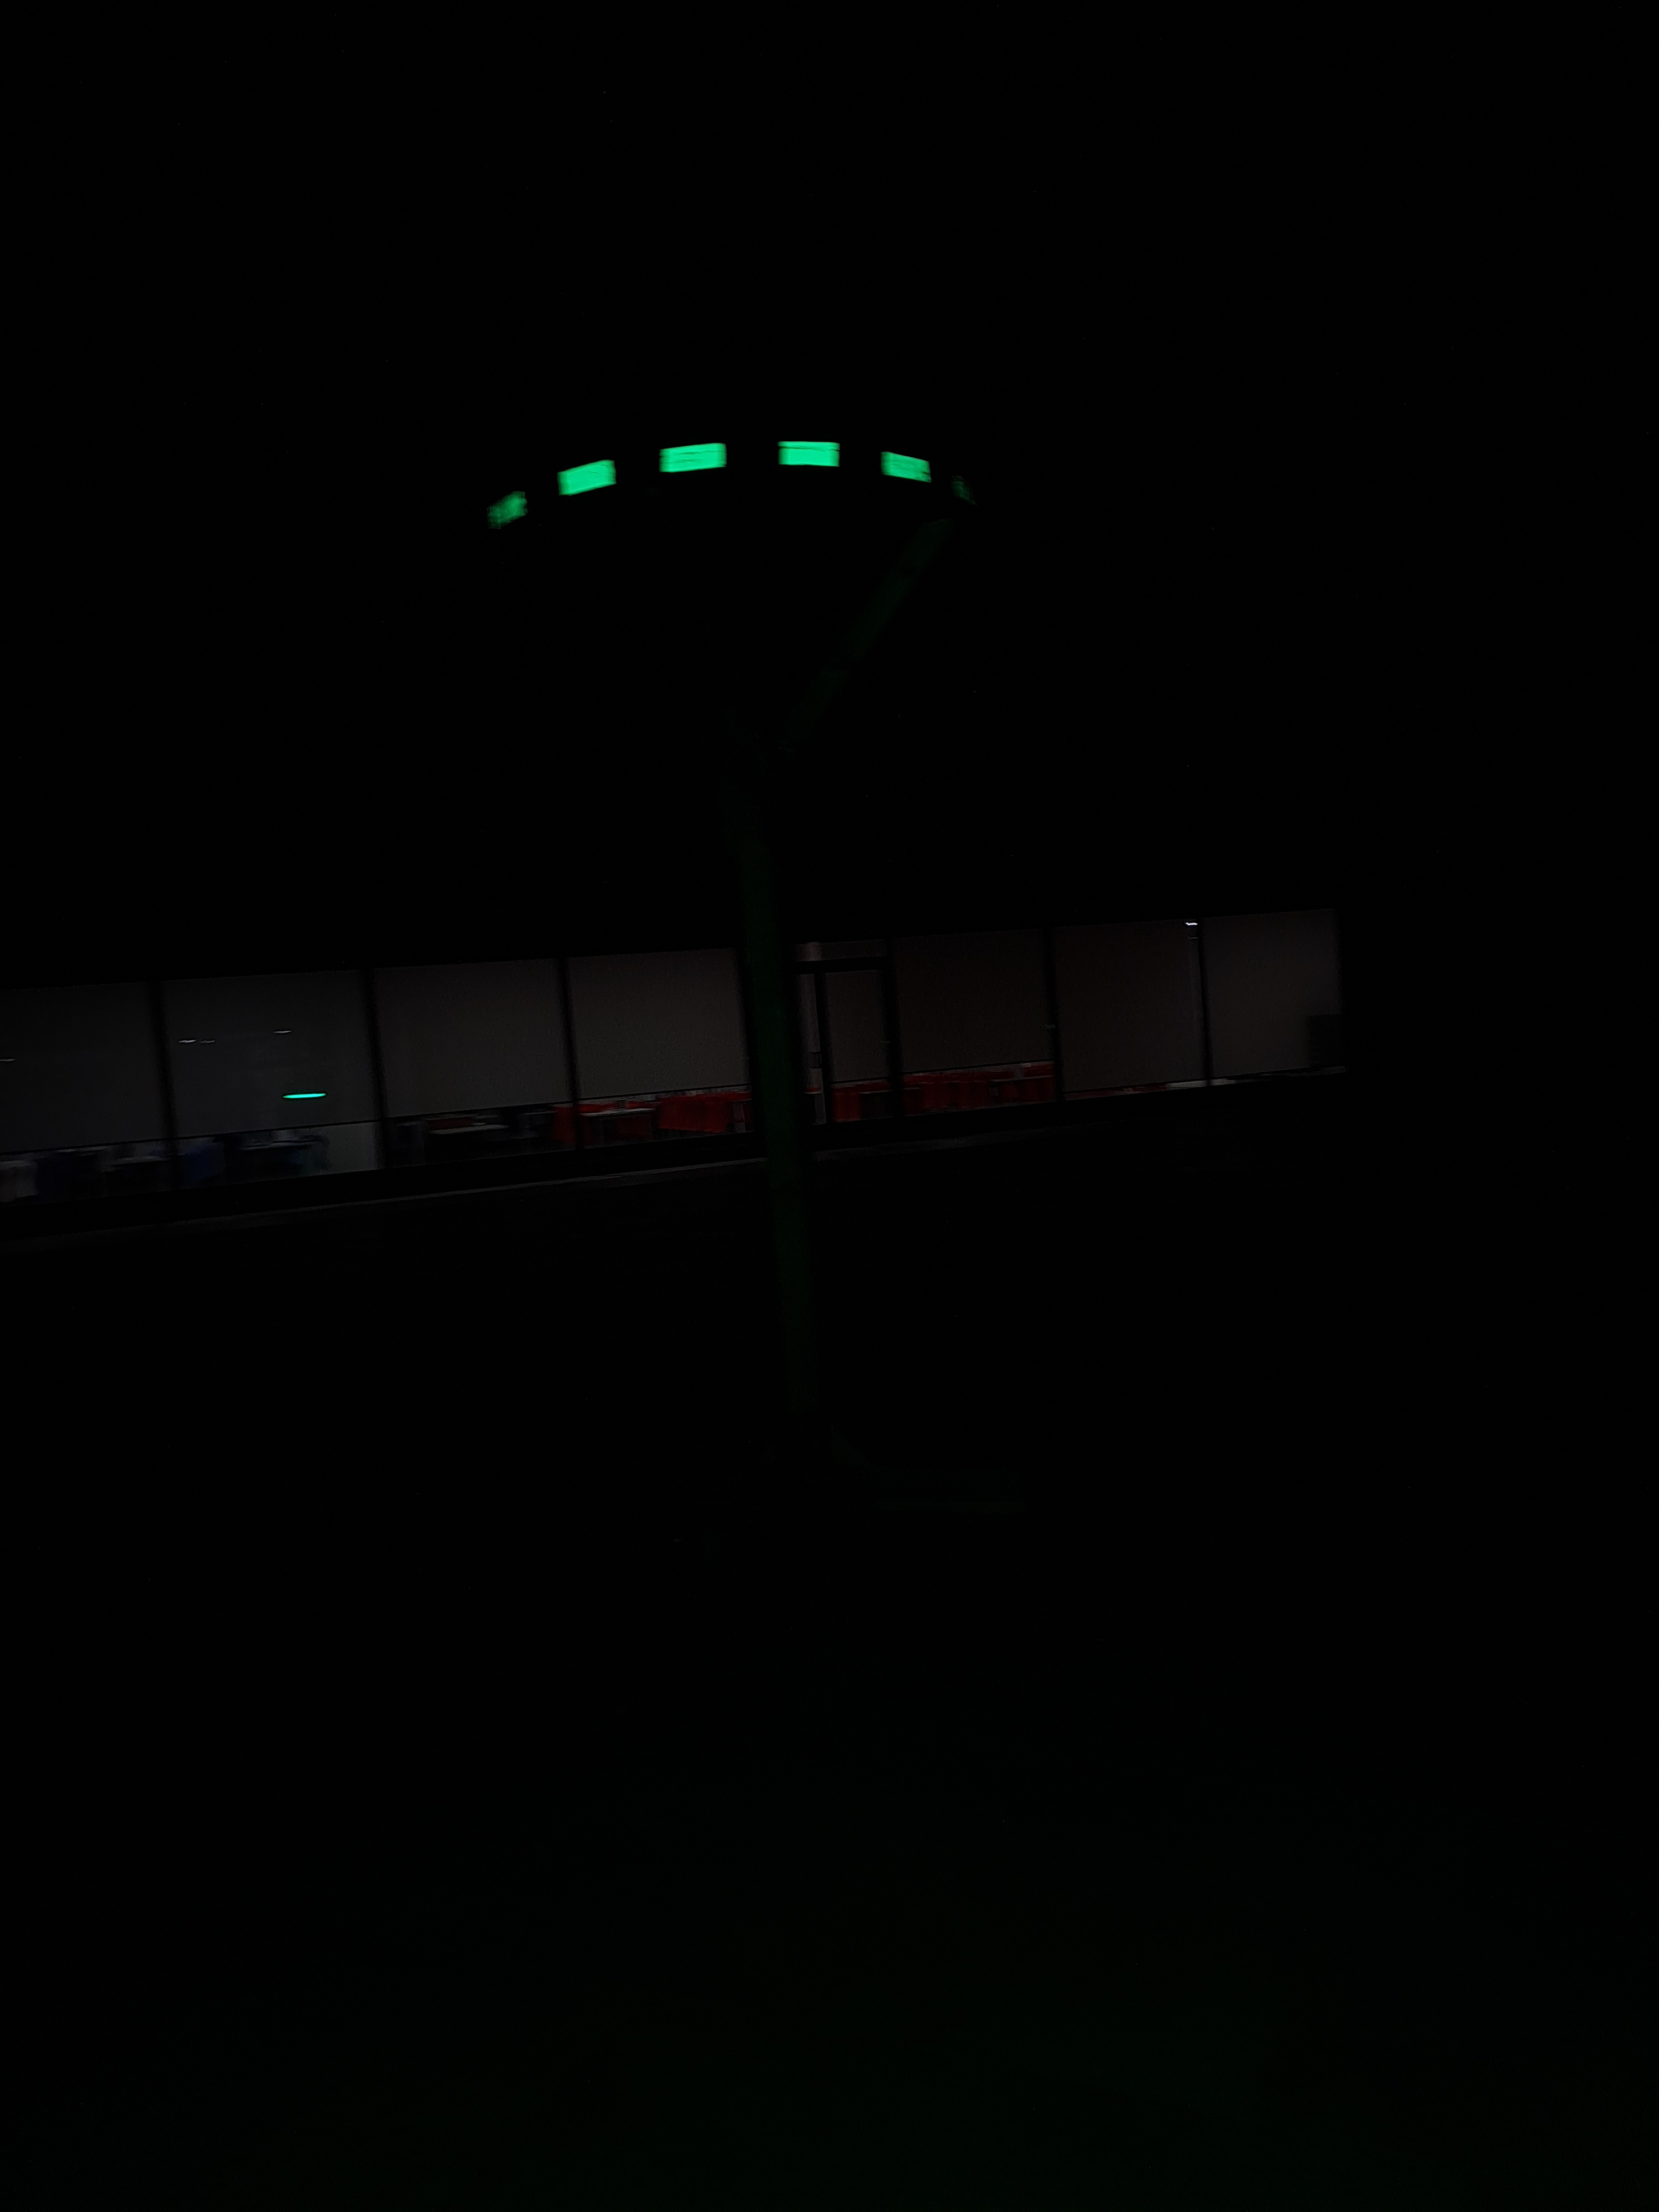hoop: (483, 434, 943, 536)
